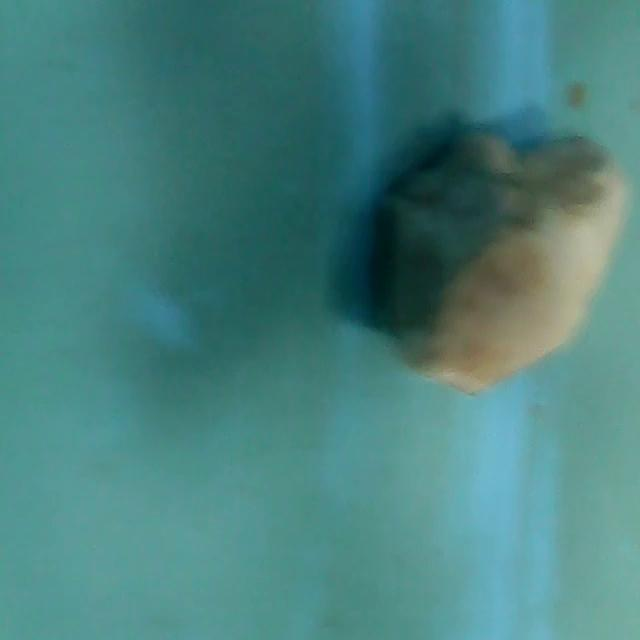rock: (371, 105, 632, 408)
